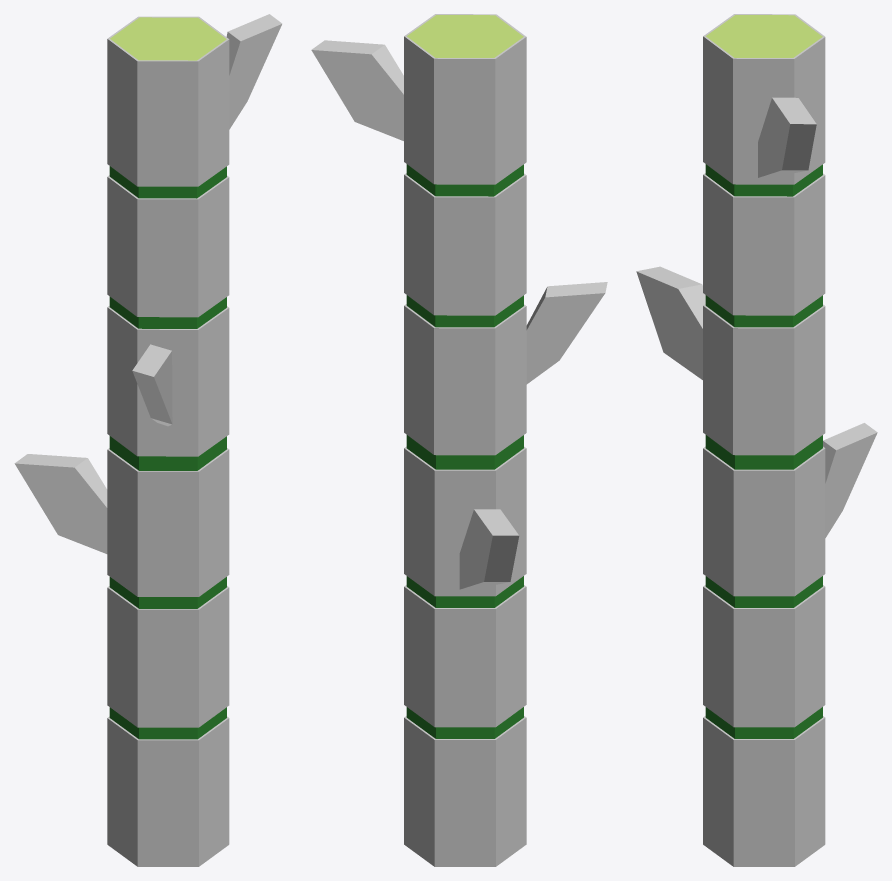
File: sugarcane-sprouting.glb
3 views of the same model, side by side, from view 1: azimuth 30°, elevation 25°; view 2: azimuth 150°, elevation 25°; view 3: azimuth 270°, elevation 25° (orthographic).
Visible parts, largest first — view 1: Cylinder.001; view 2: Cylinder.001; view 3: Cylinder.001.
Part boxes in pixels (x1,y1,x2,y2): Cylinder.001: (14,14,282,866); Cylinder.001: (311,14,607,866); Cylinder.001: (636,14,877,866).
Bounding box in the file's own units: 1.7 × 5.65 × 1.53.
